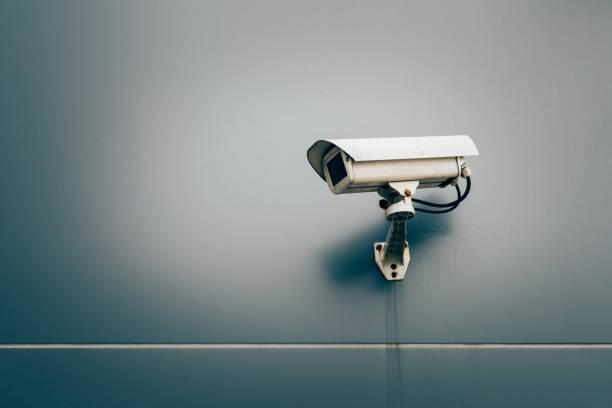camera: (270, 102, 517, 260)
